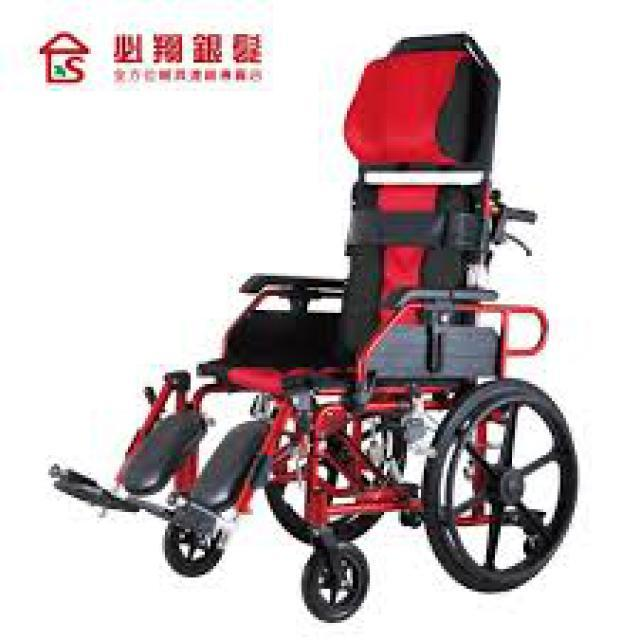wheelchair: (46, 29, 580, 620)
